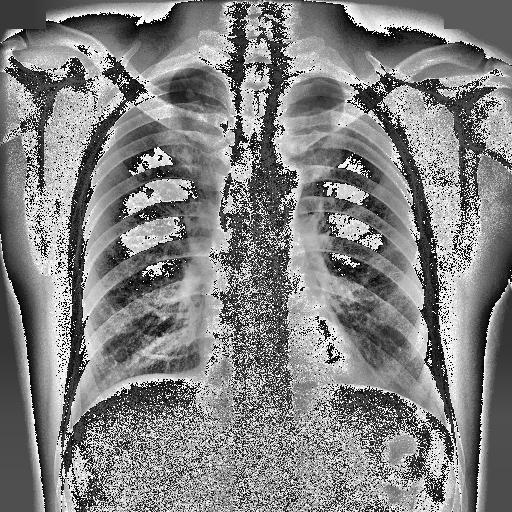13- Pulmonary fibrosis: (139, 136, 167, 196), (178, 70, 205, 132), (178, 72, 206, 118), (142, 148, 164, 196)
8- Nodule-Mass: (135, 143, 164, 174), (144, 186, 154, 196), (184, 88, 194, 98)
